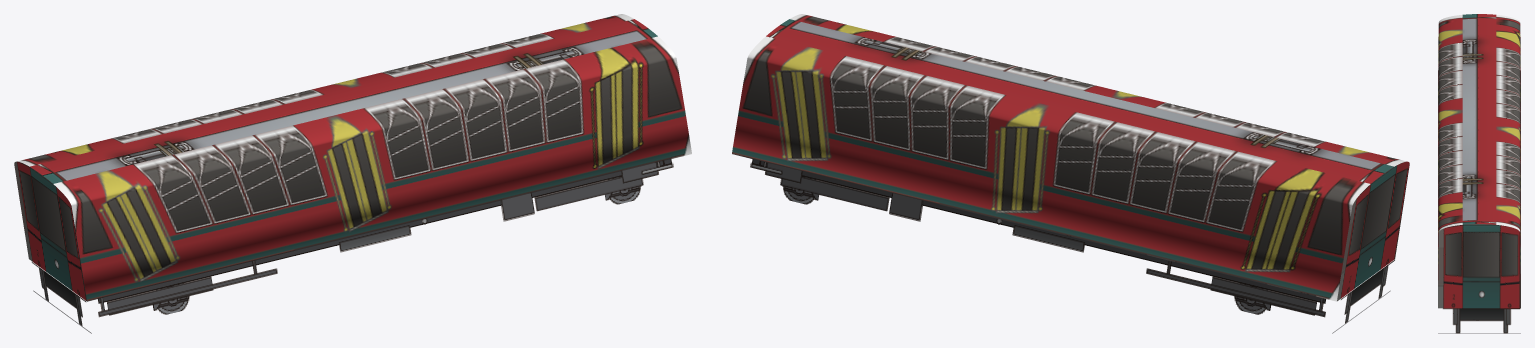
File: car2.glb
3 renders of one model, left to right at view 1: azimuth 30°, elevation 25°; view 2: azimuth 150°, elevation 25°; view 3: azimuth 270°, elevation 25°, orthographic. The views are drawn at different scales.
Visible parts, largest first — view 1: sakamoto-cable-car1; view 2: sakamoto-cable-car1; view 3: sakamoto-cable-car1.
Boxes of the visible parts, <box> form: sakamoto-cable-car1: <box>14,14,691,333</box>; sakamoto-cable-car1: <box>732,14,1409,333</box>; sakamoto-cable-car1: <box>1438,14,1520,333</box>.
Bounding box in the file's own units: 15.56 × 3.4 × 2.5.
8 materials, 7 textured.
